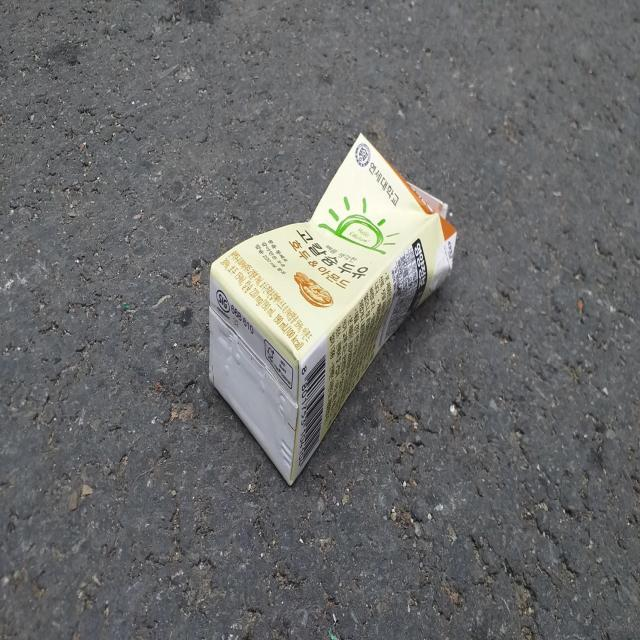paperpack: (209, 132, 457, 484)
